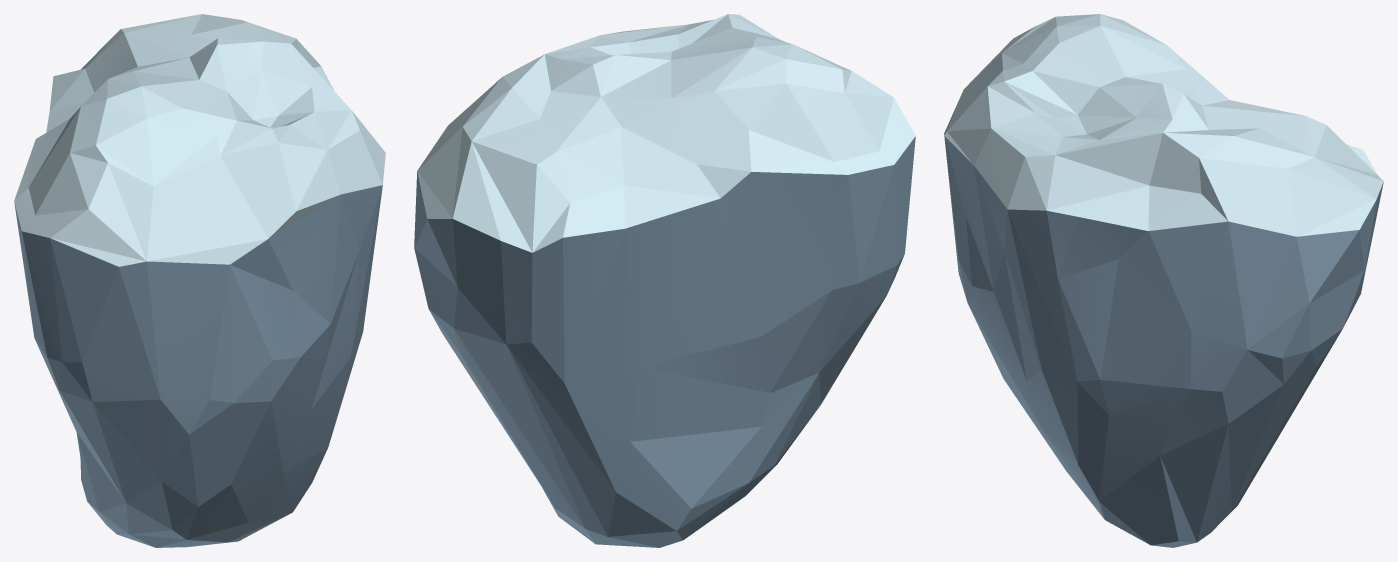
File: Iceberg_04.glb
The picture shows the model from 3 angles, left to right: view 1: azimuth 30°, elevation 25°; view 2: azimuth 150°, elevation 25°; view 3: azimuth 270°, elevation 25°; orthographic projection. The views are drawn at different scales.
Parts seen in each view (by area): view 1: SM_Env_Iceberg_02; view 2: SM_Env_Iceberg_02; view 3: SM_Env_Iceberg_02.
Boxes of the visible parts, box(x1,y1,x2,y2) form: SM_Env_Iceberg_02: box(14, 14, 385, 547); SM_Env_Iceberg_02: box(414, 14, 915, 547); SM_Env_Iceberg_02: box(944, 14, 1383, 547).
Bounding box in the file's own units: 7.1 × 8.9 × 7.59.
1 material, 1 textured.
